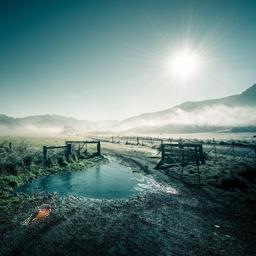Swallow: (19, 204, 51, 226)
